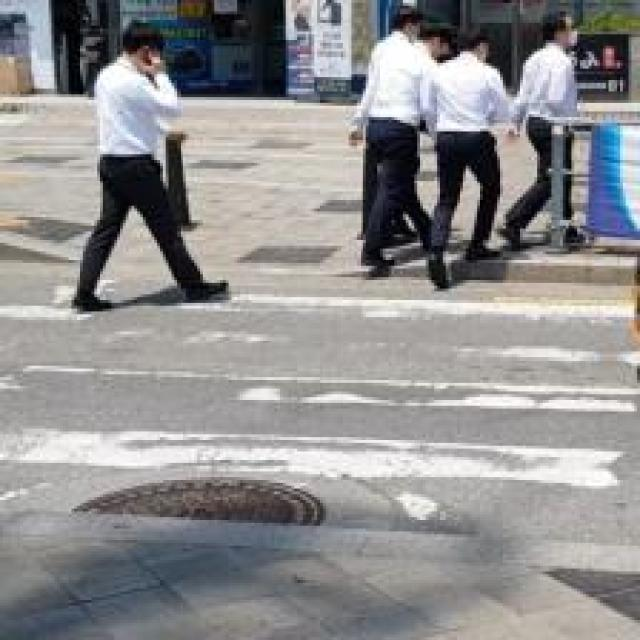walk-crossing: (20, 283, 637, 511)
